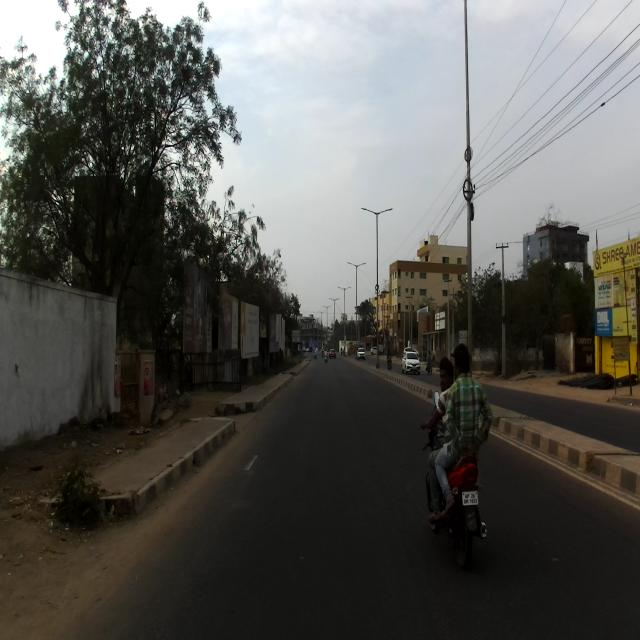motorcycle ahead at: (416, 450, 496, 568)
